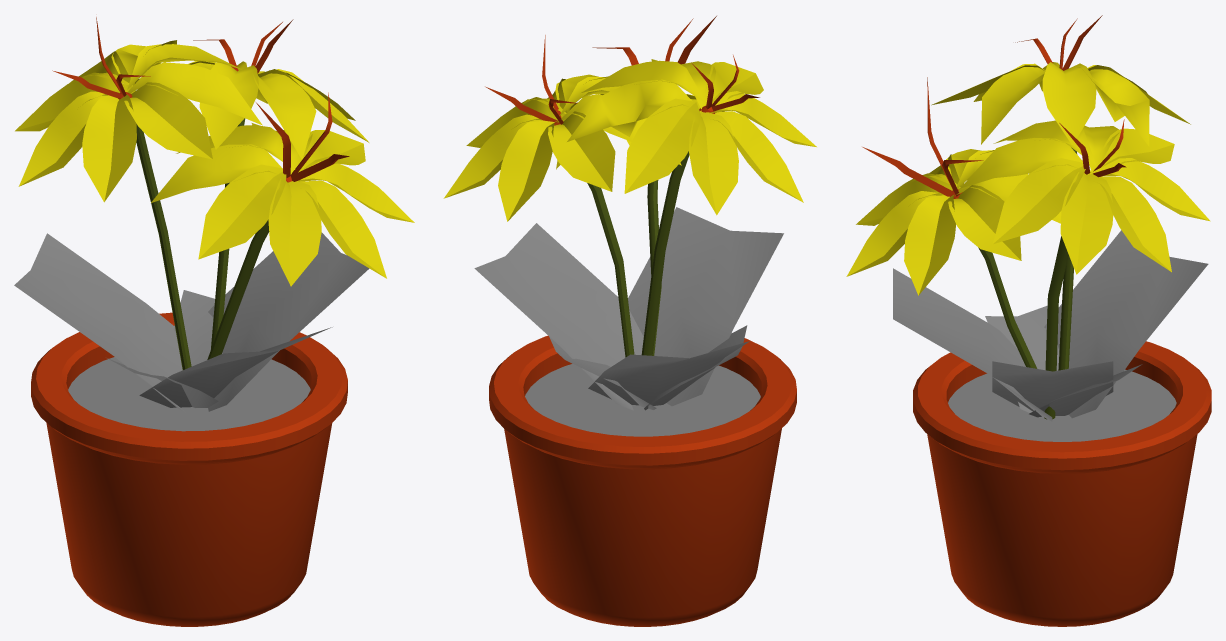
File: FlowerPotYellow001.FBX
3 renders of one model, left to right at view 1: azimuth 30°, elevation 25°; view 2: azimuth 150°, elevation 25°; view 3: azimuth 270°, elevation 25°, orthographic. The views are drawn at different scales.
Visible parts, largest first — view 1: FlowerPotYellow001; view 2: FlowerPotYellow001; view 3: FlowerPotYellow001.
Part boxes in pixels (x1,y1,x2,y2): FlowerPotYellow001: [14, 17, 414, 626]; FlowerPotYellow001: [443, 16, 816, 626]; FlowerPotYellow001: [846, 15, 1211, 626].
Bounding box in the file's own units: 16.9 × 26.97 × 16.53.
